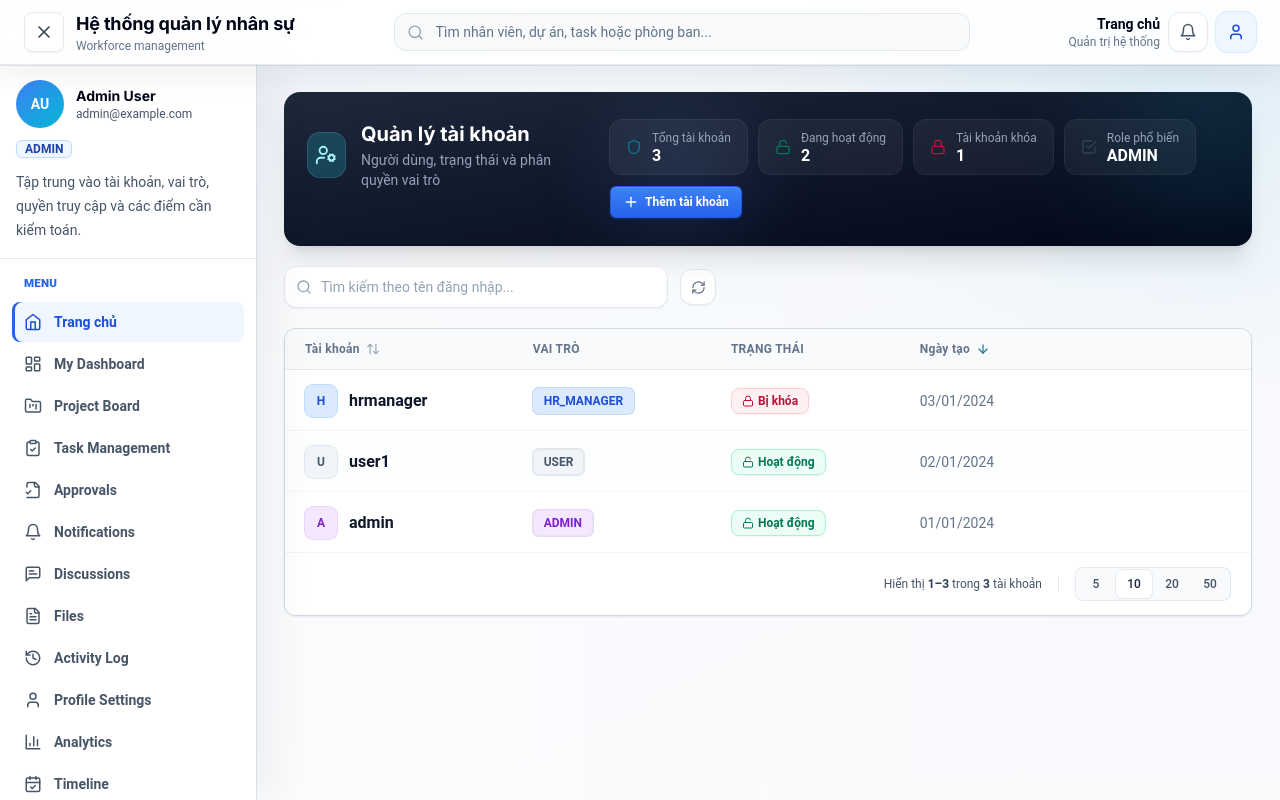
UserManagementPage › Search Functionality › should show "no results" message when search has no matches
Expected: the text "admin" is shown, [349, 510, 394, 534]
Type "nonexistent" into the field with placeholder "Tìm kiếm theo tên đăng nhập...". click: (476, 287)
box: [284, 266, 668, 308]
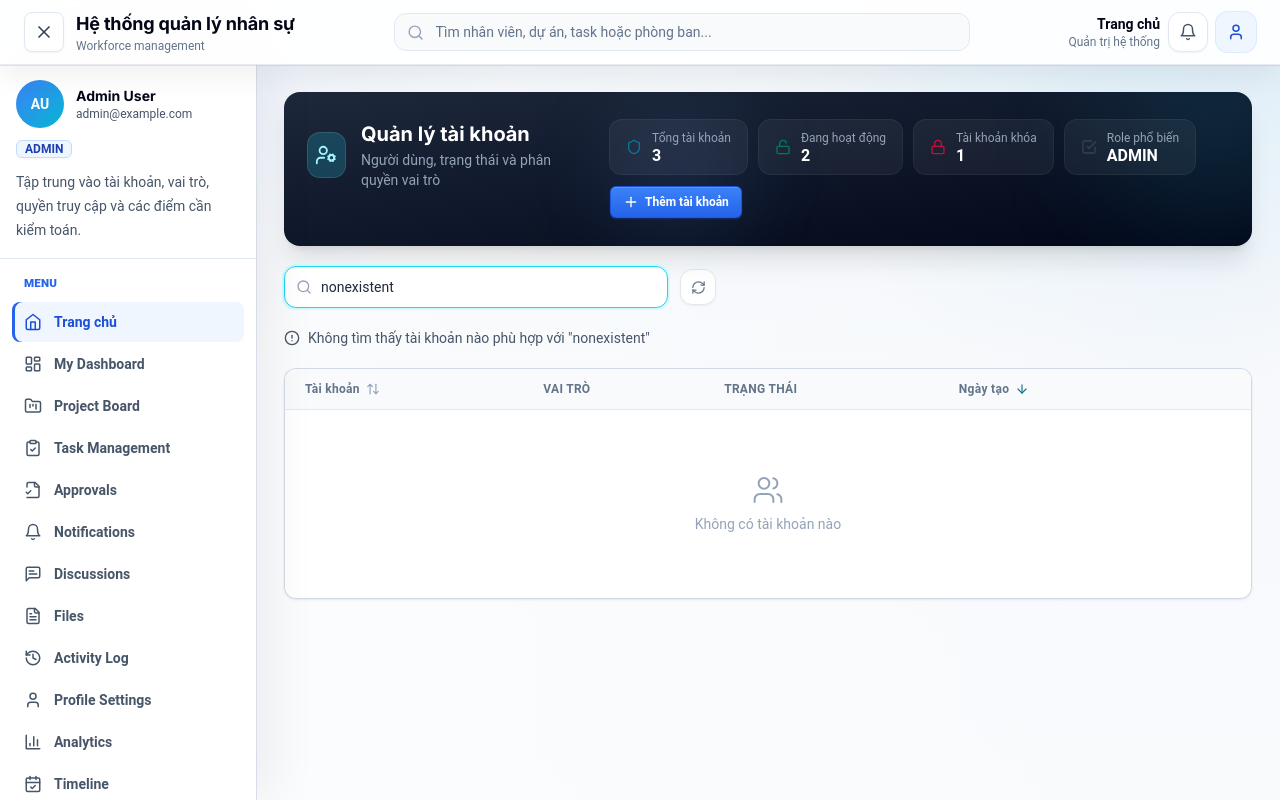
Now the text "Không tìm thấy tài khoản nào phù hợp với \"nonexistent\"" is shown, box [284, 330, 650, 346]
